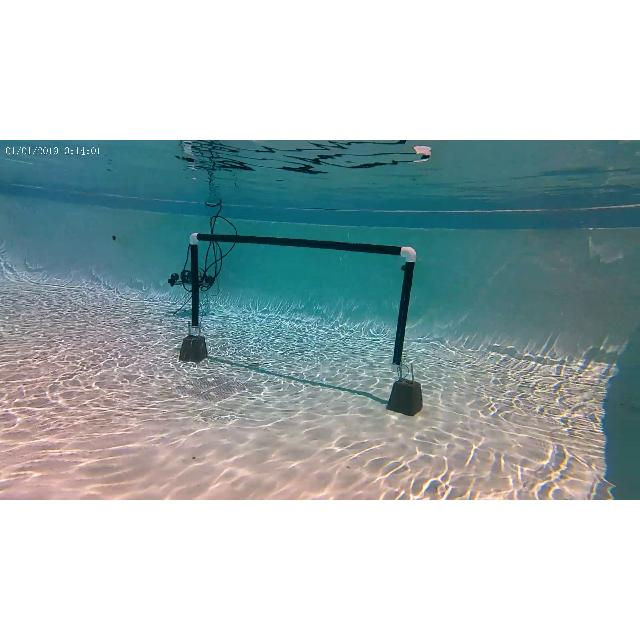prequal gate: (189, 233, 417, 373)
prequal gate leg l: (186, 230, 208, 342)
prequal gate leg r: (388, 240, 424, 384)
